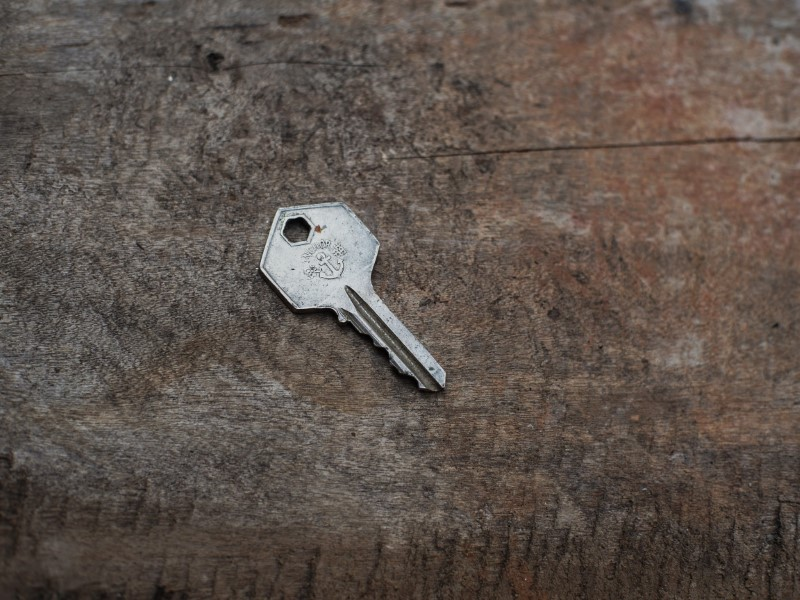key: (245, 196, 452, 394)
